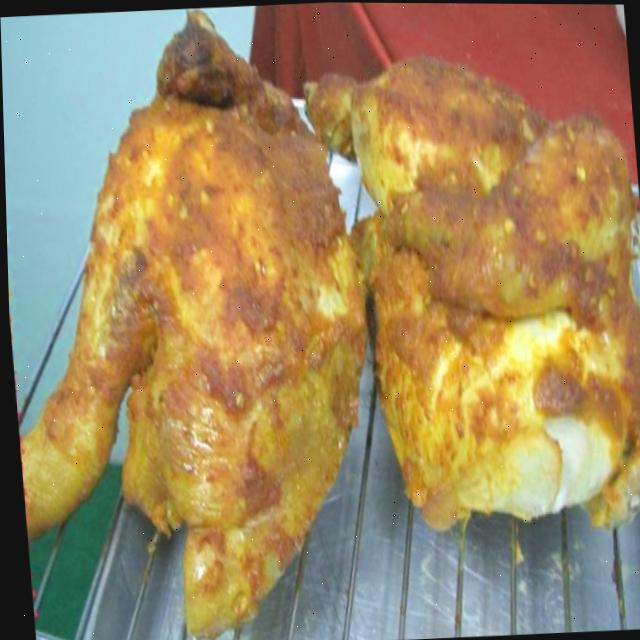鸡肉料理 含炸鸡: (8, 5, 640, 630)
